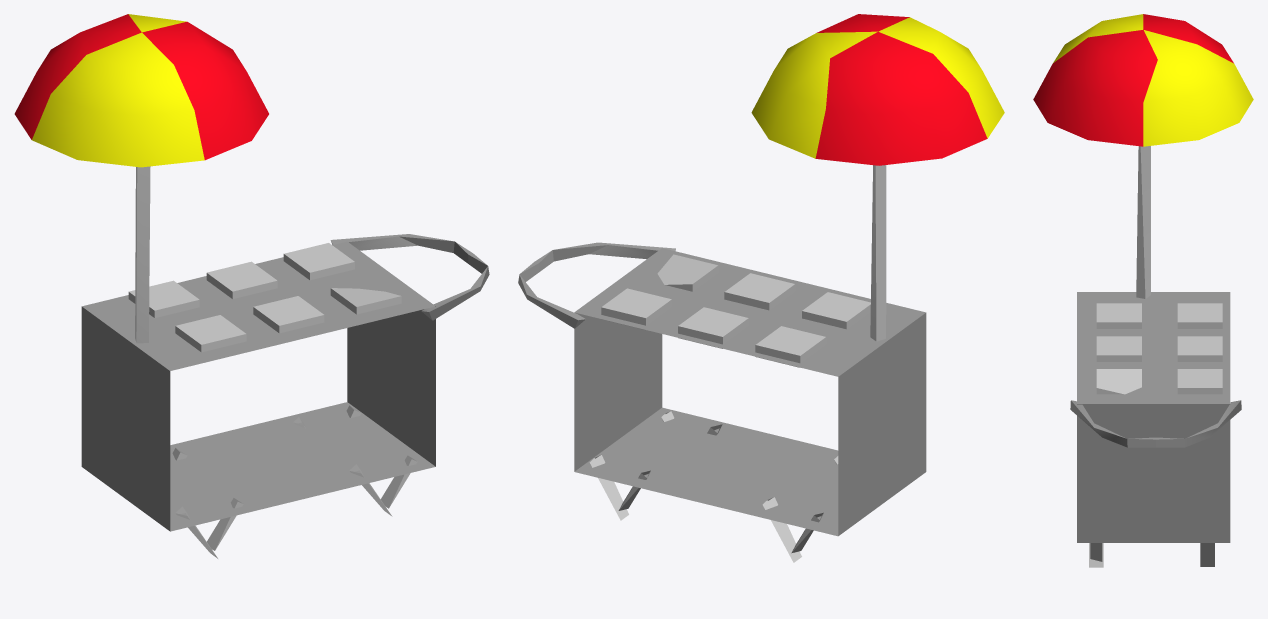
Rendered from CachorroQuenteLOD1 - Copy.fbx.
3 views of the same model, side by side, from view 1: azimuth 30°, elevation 25°; view 2: azimuth 150°, elevation 25°; view 3: azimuth 270°, elevation 25° (orthographic). The views are drawn at different scales.
Visible parts, largest first — view 1: CarrinhoDeCachorroQuenteLOD1; view 2: CarrinhoDeCachorroQuenteLOD1; view 3: CarrinhoDeCachorroQuenteLOD1.
Part boxes in pixels (box(x1,y1,x2,y2)): CarrinhoDeCachorroQuenteLOD1: box(14, 14, 489, 558); CarrinhoDeCachorroQuenteLOD1: box(518, 14, 1004, 562); CarrinhoDeCachorroQuenteLOD1: box(1033, 14, 1253, 567).
Size of the model in its own units: 150 by 177 by 73.65.
